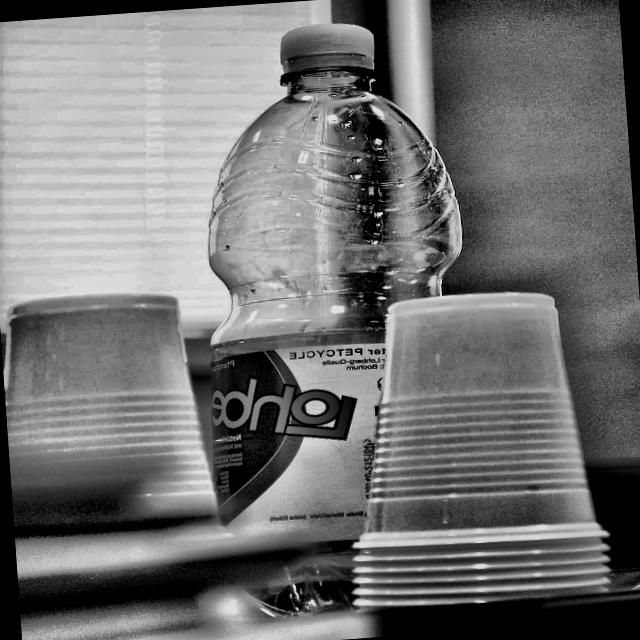waterbottle: (162, 5, 504, 625)
